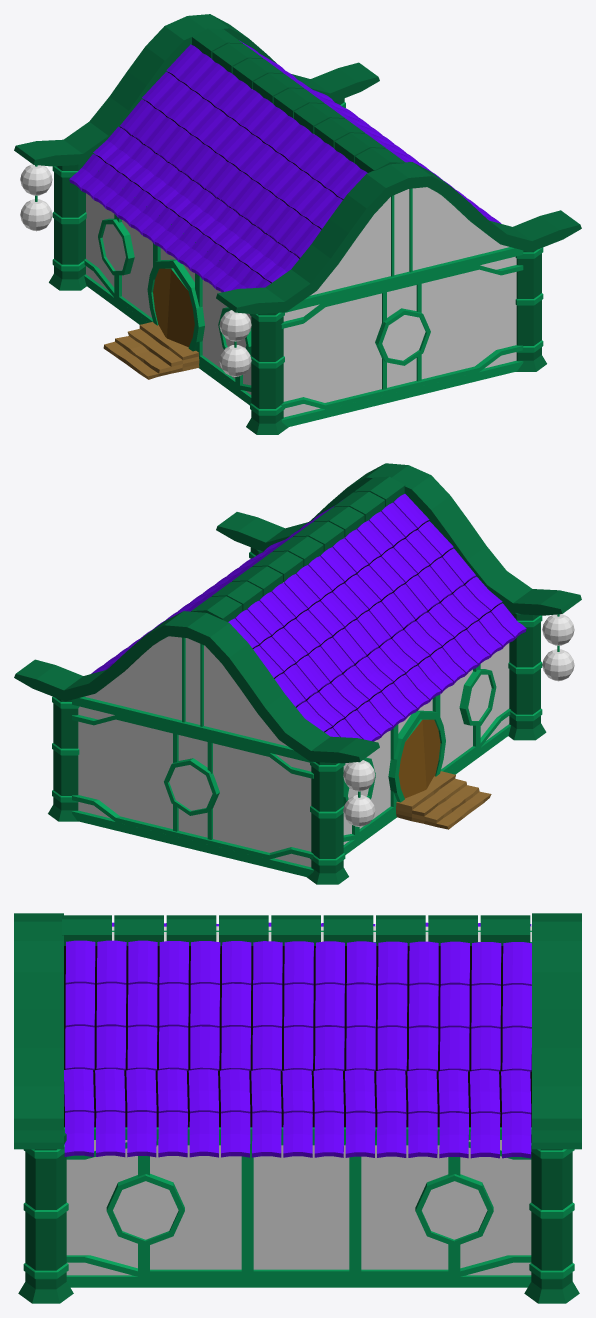
Rendered from House02.fbx.
3 views of the same model, one above another, from view 1: azimuth 30°, elevation 25°; view 2: azimuth 150°, elevation 25°; view 3: azimuth 270°, elevation 25° (orthographic). The views are drawn at different scales.
Visible parts, largest first — view 1: House.001, Telhado.001; view 2: House.001, Telhado.001; view 3: Telhado.001, House.001.
Boxes of the visible parts, x1,y1,x2,y2 form: House.001: (20, 72, 546, 434); Telhado.001: (14, 14, 581, 314); House.001: (48, 521, 574, 884); Telhado.001: (14, 463, 581, 763); Telhado.001: (14, 913, 581, 1158); House.001: (18, 926, 579, 1303).
Size of the model in its own units: 5.93 by 3.72 by 6.52.
